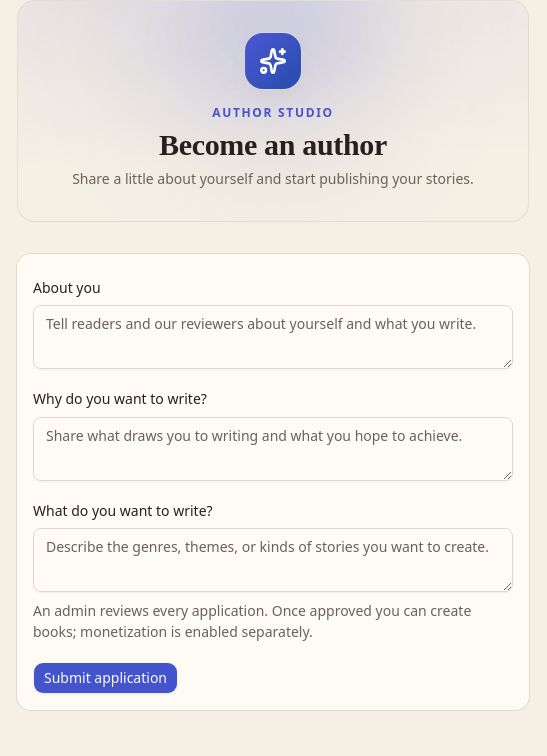
Test: AuthorApplicationPage › validates a too-short bio
The image size is (547, 756).
// Fill motivation + interests validly so only the bio fails validation.
Type "too short" into the text box labelled "About you".
click(273, 337); type("too short")  # box [33, 305, 513, 369]
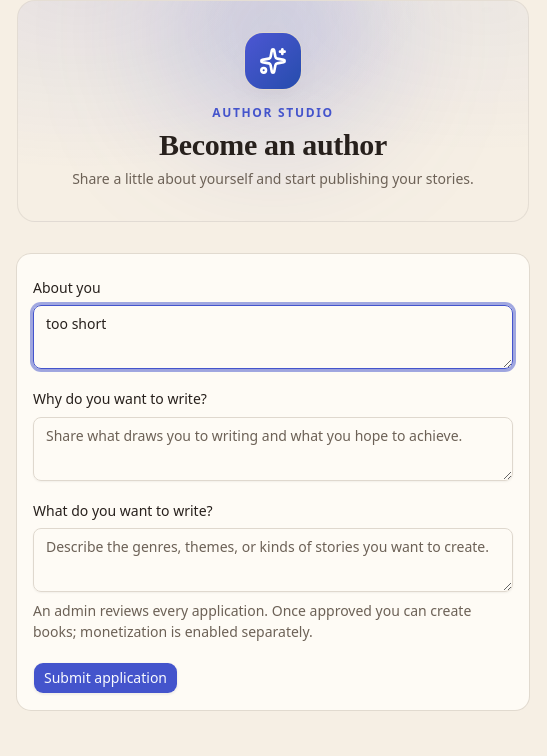
Type "I have stories that have lived in my head for years." into the text box labelled "Why do you want to write?".
click(273, 448); type("I have stories that have lived in my head for years.")  # box [33, 416, 513, 480]
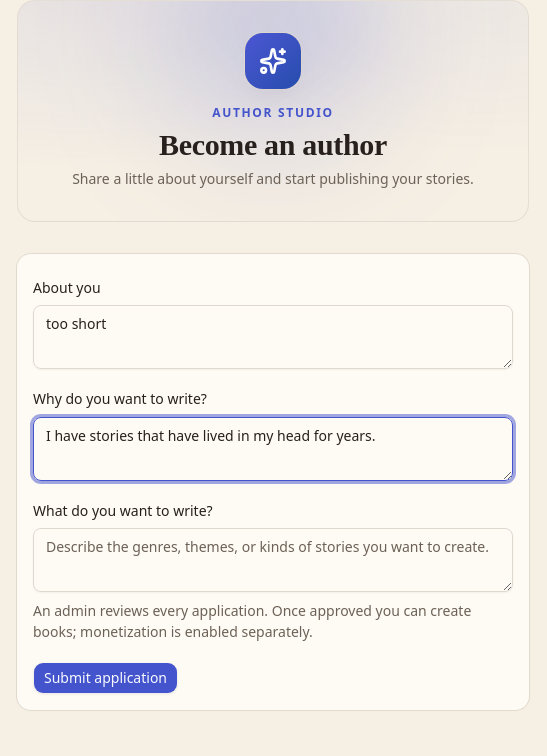
Type "Cozy fantasy about tea shops and quiet everyday magic." into the text box labelled "What do you want to write?".
click(273, 560); type("Cozy fantasy about tea shops and quiet everyday magic.")  # box [33, 528, 513, 592]
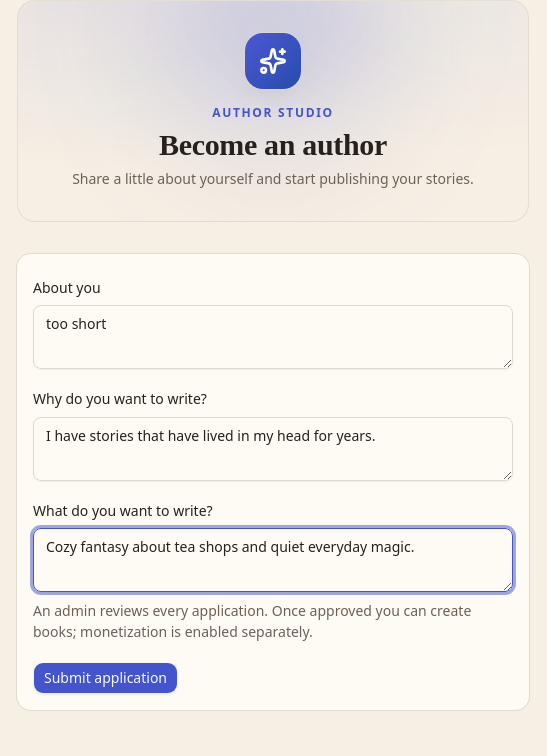
Click the button "Submit application".
click(106, 678)  # box [33, 662, 178, 694]
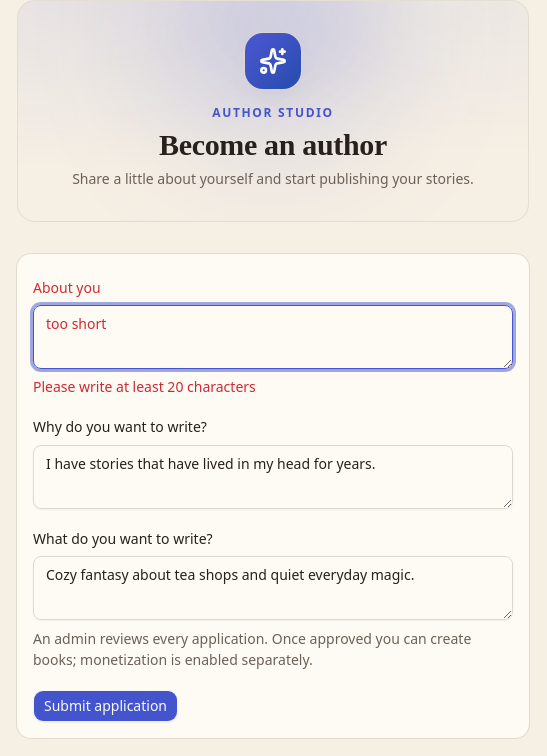
Expected: the text "Please write at least 20 characters" is shown, [33, 377, 256, 396]
